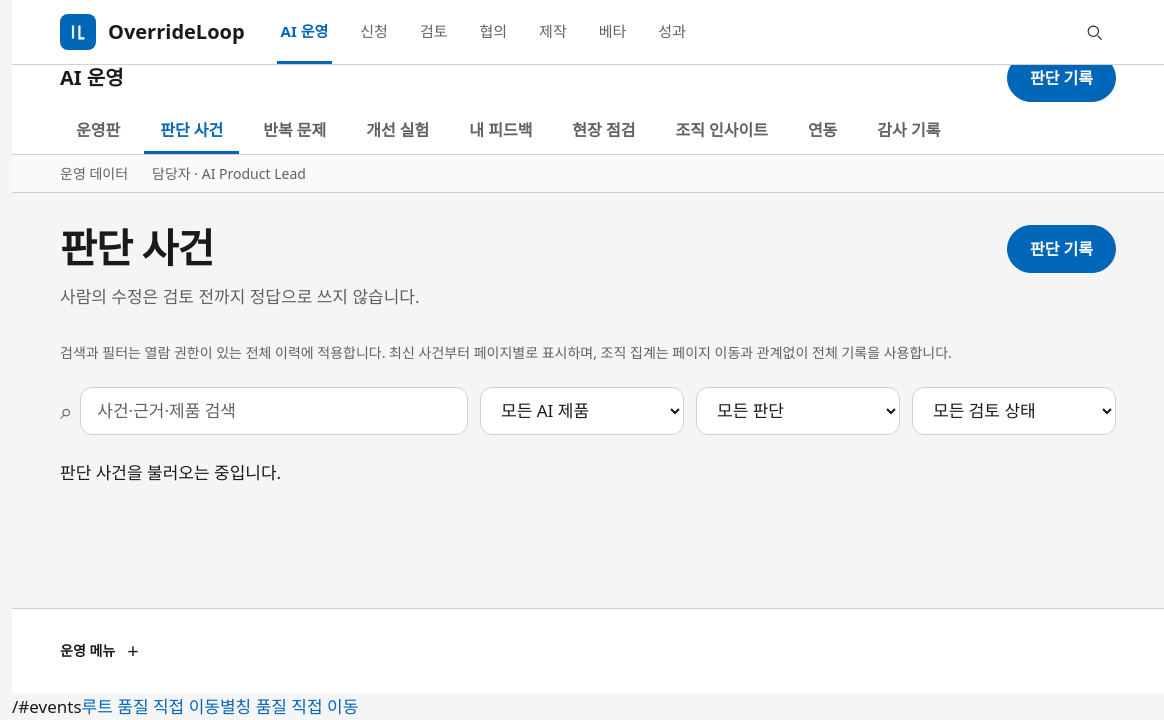
Test: accepts a React Router link between aliases without keeping the old view
(page scrolled)
Check: the navigation bar named "OverrideLoop 주요 메뉴" is shown, box [60,110,956,154]
Click the link "별칭 품질 직접 이동" at (289, 706), box [220,695,358,718]
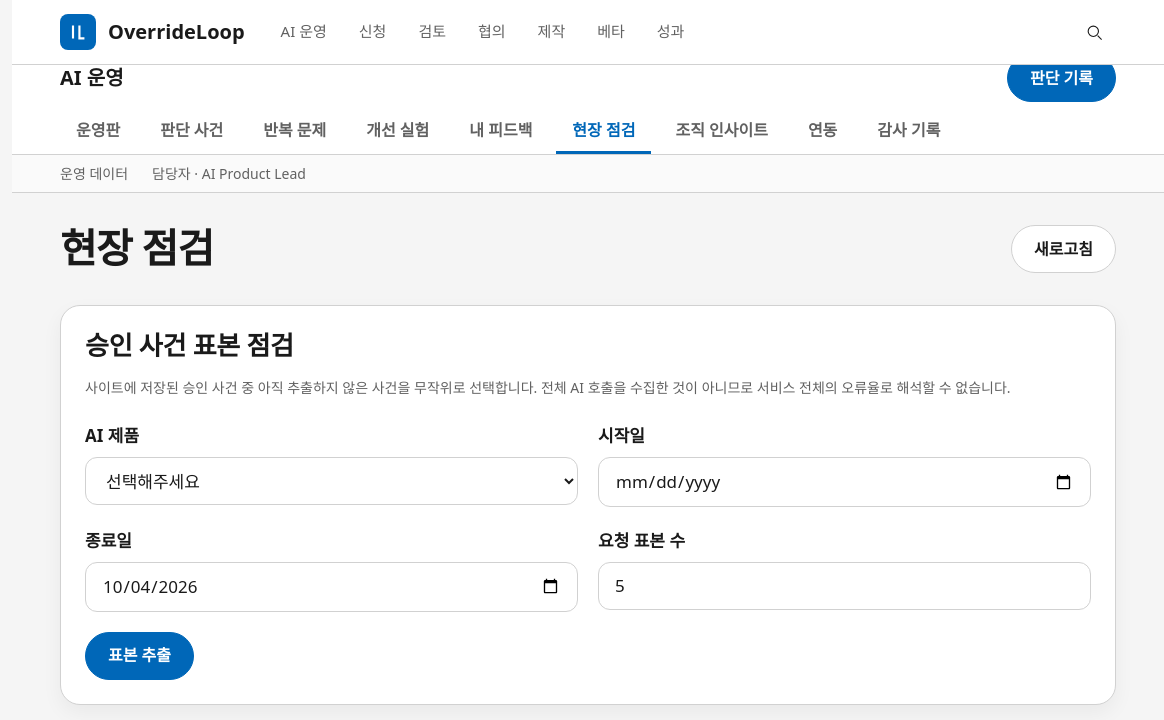
Check: the button "현장 점검" is shown, box [556,110,651,154]
